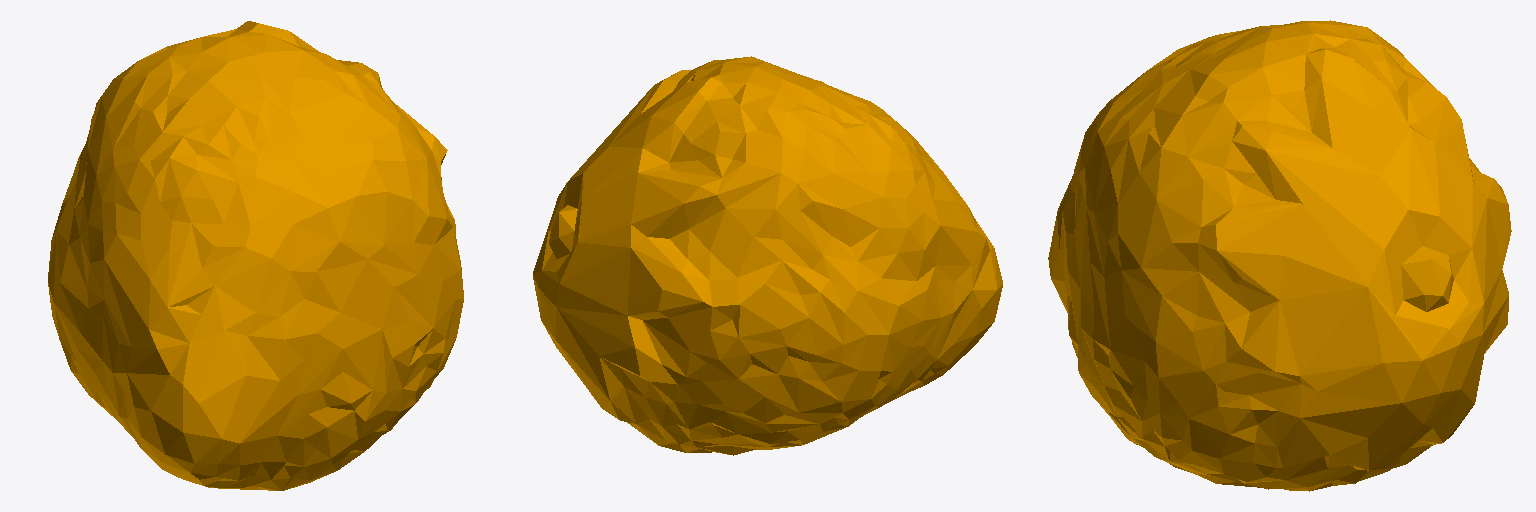
The robot description file, URDF, robot "012_strawberry":
<?xml version="1.0" ?>
<robot name="012_strawberry">
  <link name="base_link">
    <inertial>
      <origin xyz="0. 0. 0." />
      <mass value="55.0" />
      <inertia ixx="0.001" ixy="0.0" ixz="0.0" iyy="0.001" iyz="0.0" izz="0.001" />
    </inertial>
    <visual name="012_strawberry">
      <origin xyz="0. 0. 0."/>
      <geometry>
        <mesh filename="shape/visual/012_strawberry.obj"/>
      </geometry>
    </visual>
<collision>
      <origin xyz="0. 0. 0."/>
      <geometry>
        <mesh filename="shape/collision/012_strawberry_cm.obj"/>
      </geometry>
    </collision>

  </link>
</robot>

--- Render facts (derived) ---
Views: 3 orthographic renders of the robot side by side, from view 1: azimuth 30°, elevation 25°; view 2: azimuth 150°, elevation 25°; view 3: azimuth 270°, elevation 25°.
Model 012_strawberry with 1 links and 0 joints (none), rooted at base_link, posed all joints at 0.
Visible links, largest first — view 1: base_link; view 2: base_link; view 3: base_link.
Link boxes in pixels (bbox=[...]): base_link: bbox=[48, 21, 463, 490]; base_link: bbox=[533, 56, 1002, 455]; base_link: bbox=[1048, 20, 1511, 491].
Size in the robot's own frame: 0.0452 by 0.0454 by 0.0458 metres.
Meshes: 1 distinct files referenced, 1 mesh visuals loaded (1 OBJ).